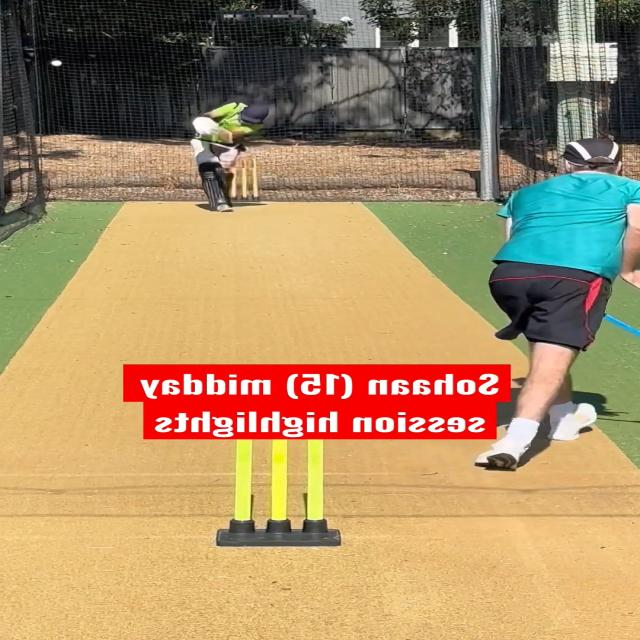ball: (50, 58, 63, 68)
stump: (216, 435, 344, 550), (232, 152, 262, 205)
